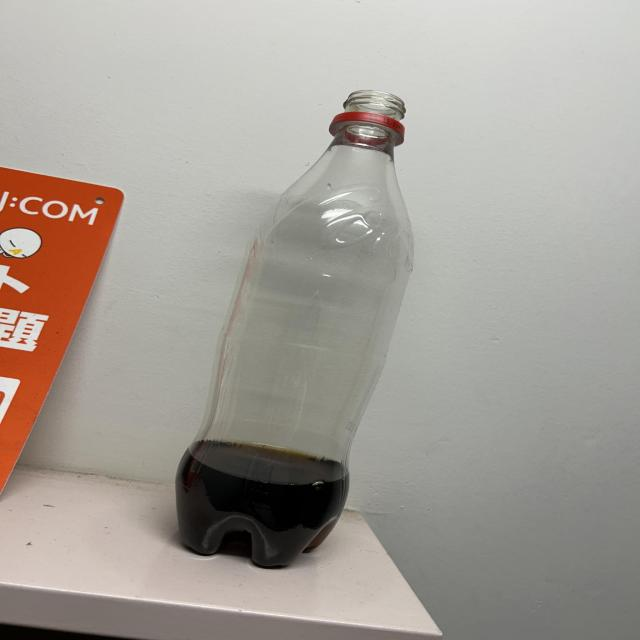low: (175, 89, 412, 566)
